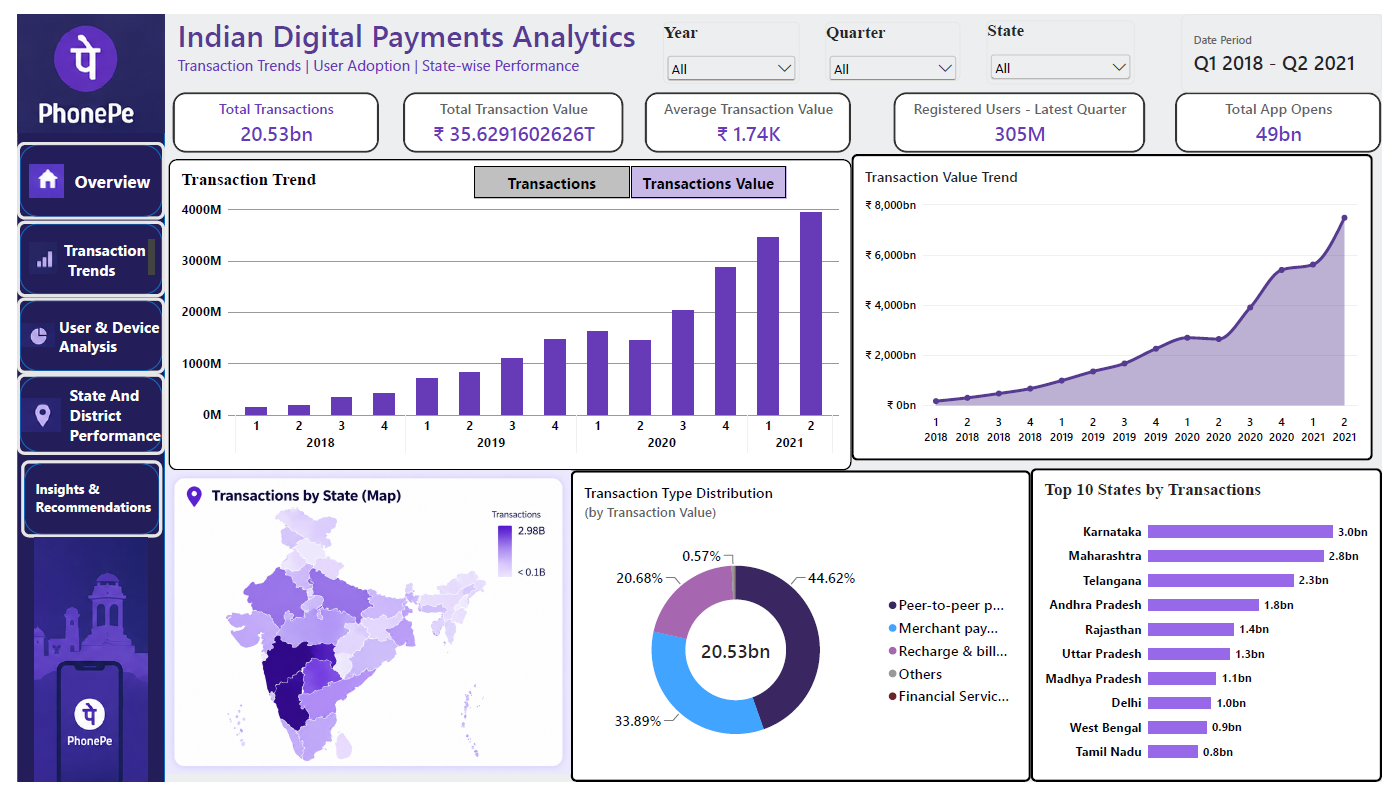

This screenshot's page, from the dashboard's own definition file:
{"tool":"powerbi","page":{"name":"Executive Overview","canvas":[1920,1080],"ordinal":0},"visuals":[{"type":"textbox","box":[226.4,0,716.3,119.4],"z":0},{"type":"slicer","title":"Year","fields":{"Values":["State_Txn and Users.Year"]},"box":[909.2,11,191.4,86.5],"z":1000},{"type":"slicer","title":"Quarter","fields":{"Values":["State_Txn and Users.Quarter"]},"box":[1137.4,11,189.6,82.8],"z":2000},{"type":"slicer","title":"State","fields":{"Values":["DimState.State"]},"box":[1363.8,9.2,208,90.2],"z":3000},{"type":"shape","box":[0,0,207.9,1080.6],"z":4000},{"type":"cardVisual","fields":{"Data":["State_Txn and Users.Total Transaction Value"]},"box":[542.9,110.4,310,85],"z":5000},{"type":"cardVisual","fields":{"Data":["State_Txn and Users.Total Transactions"]},"box":[219,110.4,290,85],"z":6000},{"type":"cardVisual","fields":{"Data":["State_Txn and Users.Average Transaction Value"]},"box":[883.4,110.4,290,85],"z":7000},{"type":"cardVisual","fields":{"Data":["State_Txn and Users.Registered Users - Latest Quarter"]},"box":[1233.1,110.4,353.4,84.7],"z":8000},{"type":"cardVisual","fields":{"Data":["State_Txn and Users.Total App Opens"]},"box":[1628.8,110.4,290,85],"z":9000},{"type":"clusteredColumnChart","title":"Transaction Trend","fields":{"Category":["State_Txn and Users.Year","State_Txn and Users.Quarter"],"Y":["State_Txn and Users.Total Transactions"]},"box":[213.5,204.3,960.7,438],"z":10000},{"type":"slicer","fields":{"Values":["Transaction Metric.Transaction Metric"]},"box":[622.1,211.7,478.5,49.7],"z":11000},{"type":"clusteredBarChart","title":"Top 10 States by Transactions","fields":{"Category":["DimState.State"],"Y":["State_Txn and Users.Total Transactions"]},"box":[1426.4,638.7,493.3,441.7],"z":12000},{"type":"lineChart","title":"Transaction Value Trend","fields":{"Category":["State_Txn and Users.Quarter","State_Txn and Users.Year"],"Y":["State_Txn and Users.Total Transaction Value"]},"box":[1174.2,196.9,732.5,430.7],"z":13000},{"type":"donutChart","title":"Transaction Type Distribution","fields":{"Category":["State_TxnSplit.Transaction Type"],"Y":["Sum(State_TxnSplit.Transactions)"]},"box":[778.5,642.3,647.9,438],"z":14000},{"type":"image","box":[136.2,642.3,716,427],"z":15000},{"type":"cardVisual","fields":{"Data":["State_Txn and Users.Date Period"]},"box":[1638,0,281.6,110.4],"z":16000},{"type":"image","box":[0,0,208,167.5],"z":17000},{"type":"shape","box":[0,180.4,208,108.6],"z":18000},{"type":"textbox","box":[81,219,145.4,42.3],"z":19000},{"type":"image","box":[16.6,208,49.7,53.4],"z":20000},{"type":"shape","box":[0,290.8,208,106.7],"z":21000},{"type":"image","box":[16.6,316.6,38.7,53.4],"z":22000},{"type":"textbox","box":[66.3,316.6,127,53.4],"z":23000},{"type":"shape","box":[0,399.4,208,106.7],"z":24000},{"type":"image","box":[5.5,412.3,47.9,79.1],"z":25000},{"type":"textbox","box":[58.9,425.2,145.4,66.3],"z":26000},{"type":"shape","box":[0,506.1,208,114.1],"z":27000},{"type":"image","box":[5.5,530.1,55.2,68.1],"z":28000},{"type":"textbox","box":[73.6,520.9,152.8,84.7],"z":29000},{"type":"shape","box":[5.5,627.6,198.8,108.6],"z":30000},{"type":"textbox","box":[25.8,655.2,213.5,121.5],"z":32000},{"type":"image","box":[0,736.2,208,344.2],"z":33000}]}

Visuals, with their boxes in screenshot pixels (x1, y1, x2, y2), scaled from the page's 1920x1080 canvas onto the 1397x796 screenshot:
textbox: bbox=[165, 0, 686, 88]
"Year" slicer: bbox=[662, 8, 801, 72]
"Quarter" slicer: bbox=[828, 8, 966, 69]
"State" slicer: bbox=[992, 7, 1144, 73]
shape: bbox=[0, 0, 151, 795]
cardVisual - State_Txn and Users.Total Transaction Value: bbox=[395, 81, 621, 144]
cardVisual - State_Txn and Users.Total Transactions: bbox=[159, 81, 370, 144]
cardVisual - State_Txn and Users.Average Transaction Value: bbox=[643, 81, 854, 144]
cardVisual - State_Txn and Users.Registered Users - Latest Quarter: bbox=[897, 81, 1154, 144]
cardVisual - State_Txn and Users.Total App Opens: bbox=[1185, 81, 1396, 144]
"Transaction Trend" clusteredColumnChart: bbox=[155, 151, 854, 473]
slicer - Transaction Metric.Transaction Metric: bbox=[453, 156, 801, 193]
"Top 10 States by Transactions" clusteredBarChart: bbox=[1038, 471, 1396, 795]
"Transaction Value Trend" lineChart: bbox=[854, 145, 1387, 463]
"Transaction Type Distribution" donutChart: bbox=[566, 473, 1038, 795]
image: bbox=[99, 473, 620, 788]
cardVisual - State_Txn and Users.Date Period: bbox=[1192, 0, 1396, 81]
image: bbox=[0, 0, 151, 123]
shape: bbox=[0, 133, 151, 213]
textbox: bbox=[59, 161, 165, 193]
image: bbox=[12, 153, 48, 193]
shape: bbox=[0, 214, 151, 293]
image: bbox=[12, 233, 40, 273]
textbox: bbox=[48, 233, 141, 273]
shape: bbox=[0, 294, 151, 373]
image: bbox=[4, 304, 39, 362]
textbox: bbox=[43, 313, 149, 362]
shape: bbox=[0, 373, 151, 457]
image: bbox=[4, 391, 44, 441]
textbox: bbox=[54, 384, 165, 446]
shape: bbox=[4, 463, 149, 543]
textbox: bbox=[19, 483, 174, 572]
image: bbox=[0, 543, 151, 795]
